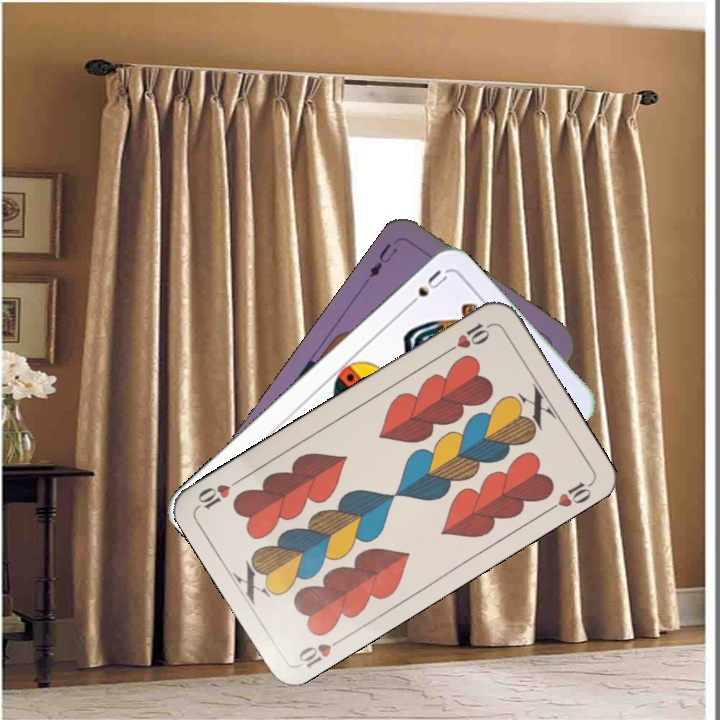EU: (365, 238, 401, 281)
H10: (294, 632, 348, 671), (442, 319, 495, 356)
SU: (401, 265, 450, 312)
